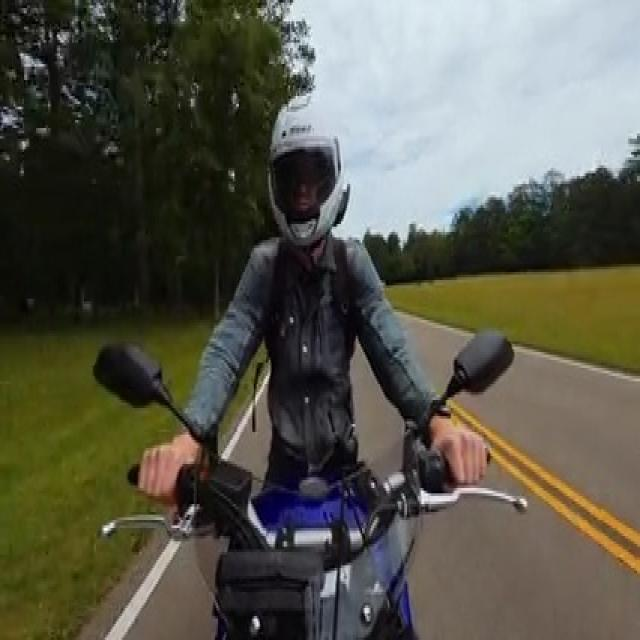Helmet_Wearer: (252, 72, 356, 237)
Person: (165, 75, 481, 481)
